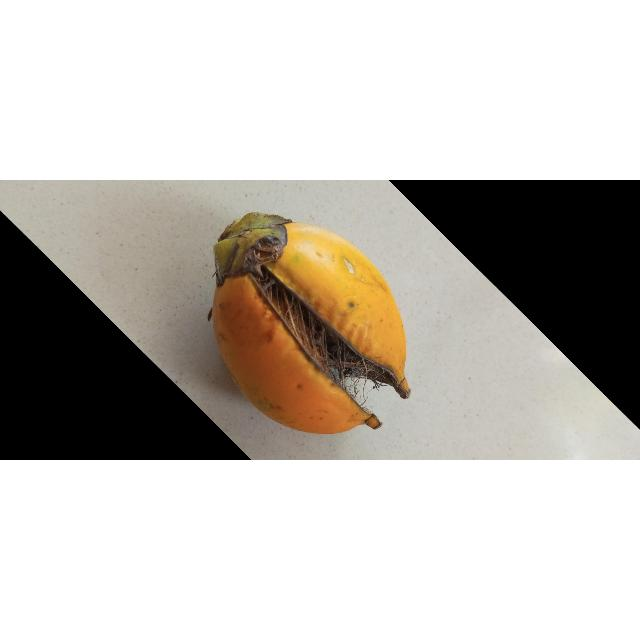damaged: (210, 213, 412, 436)
